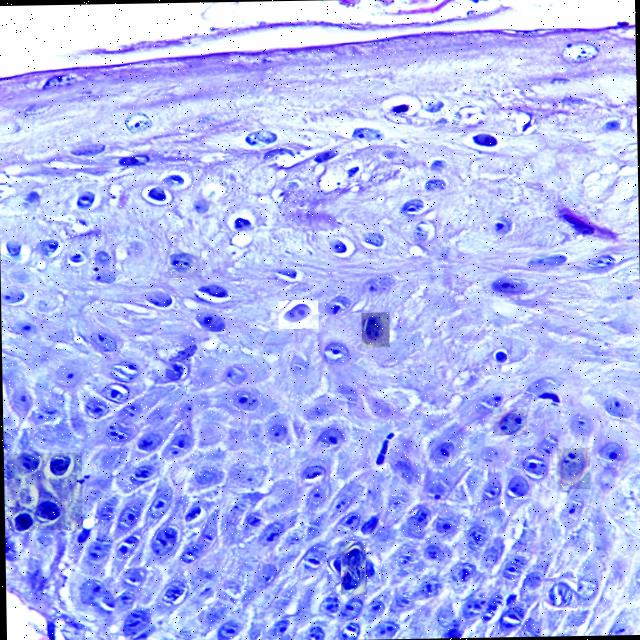Mitotic Figures: (542, 579, 575, 609)
Multiple Nucleol: (556, 448, 588, 488), (277, 300, 317, 328), (360, 312, 388, 347), (166, 251, 200, 278), (492, 409, 526, 434)
Nuclear Hyperchromatism: (7, 453, 80, 530), (339, 541, 366, 594)
